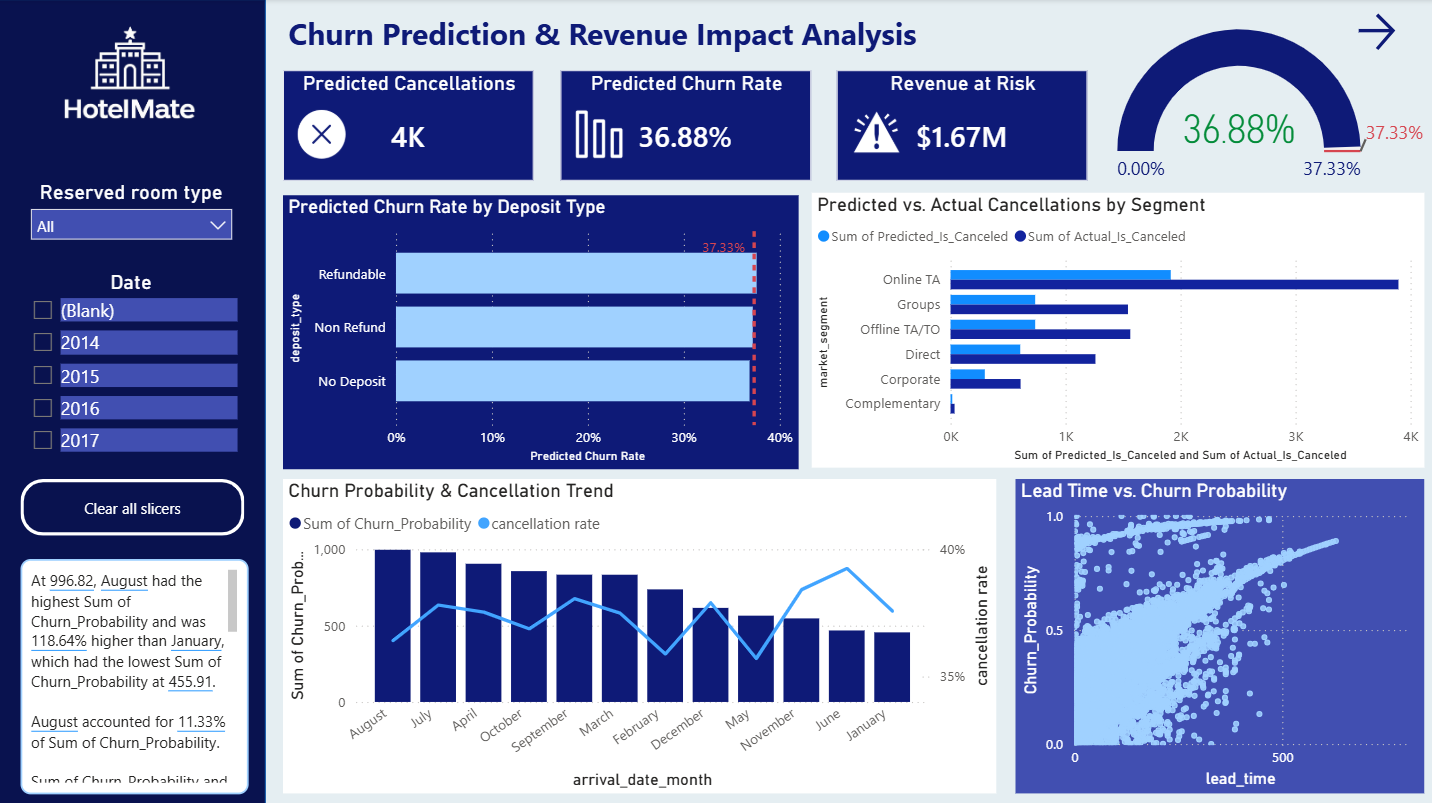

This screenshot's page, from the dashboard's own definition file:
{"tool":"powerbi","page":{"name":"Predictive Analytics","canvas":[1280,720],"ordinal":1},"visuals":[{"type":"shape","box":[0,0,238.6,719.7],"z":0},{"type":"cardVisual","title":"Predicted Cancellations","fields":{"Data":["Sum(week3_model_predictions.Predicted_Is_Canceled)"]},"box":[253.8,63.1,223.5,98.5],"z":1000},{"type":"cardVisual","title":"Predicted Churn Rate","fields":{"Data":["cleaned_hotel_bookings.Predicted Churn Rate"]},"box":[501.2,63.1,223.5,98.5],"z":2000},{"type":"cardVisual","title":"Revenue at Risk","fields":{"Data":["week3_model_predictions.Revenue at Risk"]},"box":[747.4,63.1,223.5,98.5],"z":3000},{"type":"lineStackedColumnComboChart","title":"Churn Probability & Cancellation Trend","fields":{"Category":["week3_model_predictions.arrival_date_month"],"Y":["Sum(week3_model_predictions.Churn_Probability)"],"Y2":["week3_model_predictions.cancellation rate"]},"box":[253.8,428,635.1,280.3],"z":4000},{"type":"clusteredBarChart","title":"Predicted vs. Actual Cancellations by Segment","fields":{"Category":["week3_model_predictions.market_segment"],"Y":["Sum(week3_model_predictions.Predicted_Is_Canceled)","Sum(week3_model_predictions.Actual_Is_Canceled)"]},"box":[724.7,173,545.4,244.9],"z":5000},{"type":"gauge","fields":{"Y":["cleaned_hotel_bookings.Predicted Churn Rate"],"TargetValue":["week3_model_predictions.cancellation rate"]},"box":[992.4,0,287.9,194.4],"z":6000},{"type":"clusteredBarChart","title":"Predicted Churn Rate by Deposit Type","fields":{"Y":["cleaned_hotel_bookings.Predicted Churn Rate"],"Category":["week3_model_predictions.deposit_type"]},"box":[253.8,174.2,459.6,243.7],"z":7000},{"type":"scatterChart","title":"Lead Time vs. Churn Probability","fields":{"X":["week3_model_predictions.lead_time"],"Y":["week3_model_predictions.Churn_Probability"]},"box":[906.2,427.5,363.8,280],"z":8000},{"type":"slicer","title":"Reserved room type","fields":{"Values":["week3_model_predictions.reserved_room_type"]},"box":[18.9,161.6,199.5,79.5],"z":9000},{"type":"textbox","box":[253.5,7.6,690.4,56.1],"z":10000},{"type":"slicer","title":"Date","fields":{"Values":["week3_model_predictions.reservation_status_date.Variation.Date Hierarchy.Year"]},"box":[18.9,241.2,199.5,176.8],"z":11000},{"type":"image","box":[15.2,15.2,211.1,115],"z":12000},{"type":"actionButton","box":[20.2,428,199.5,50.5],"z":13000},{"type":"textbox","box":[20.2,498.7,203.3,209.6],"z":14000},{"type":"actionButton","box":[1205.8,7.6,72,42.9],"z":15000},{"type":"image","box":[253.5,96.8,68.8,47.1],"z":15001},{"type":"image","box":[500.6,96.8,68.8,47.1],"z":15002},{"type":"image","box":[747.8,96.8,68.8,47.1],"z":15003}]}

Visuals, with their boxes in screenshot pixels (x1, y1, x2, y2), scaled from the page's 1280x720 canvas onto the 1432x803 screenshot:
shape: x1=0 y1=0 x2=267 y2=802
"Predicted Cancellations" cardVisual: x1=284 y1=70 x2=534 y2=180
"Predicted Churn Rate" cardVisual: x1=561 y1=70 x2=811 y2=180
"Revenue at Risk" cardVisual: x1=836 y1=70 x2=1086 y2=180
"Churn Probability & Cancellation Trend" lineStackedColumnComboChart: x1=284 y1=477 x2=994 y2=790
"Predicted vs. Actual Cancellations by Segment" clusteredBarChart: x1=811 y1=193 x2=1421 y2=466
gauge - cleaned_hotel_bookings.Predicted Churn Rate x week3_model_predictions.cancellation rate: x1=1110 y1=0 x2=1431 y2=217
"Predicted Churn Rate by Deposit Type" clusteredBarChart: x1=284 y1=194 x2=798 y2=466
"Lead Time vs. Churn Probability" scatterChart: x1=1014 y1=477 x2=1421 y2=789
"Reserved room type" slicer: x1=21 y1=180 x2=244 y2=269
textbox: x1=284 y1=8 x2=1056 y2=71
"Date" slicer: x1=21 y1=269 x2=244 y2=466
image: x1=17 y1=17 x2=253 y2=145
actionButton: x1=23 y1=477 x2=246 y2=534
textbox: x1=23 y1=556 x2=250 y2=790
actionButton: x1=1349 y1=8 x2=1430 y2=56
image: x1=284 y1=108 x2=361 y2=160
image: x1=560 y1=108 x2=637 y2=160
image: x1=837 y1=108 x2=914 y2=160
